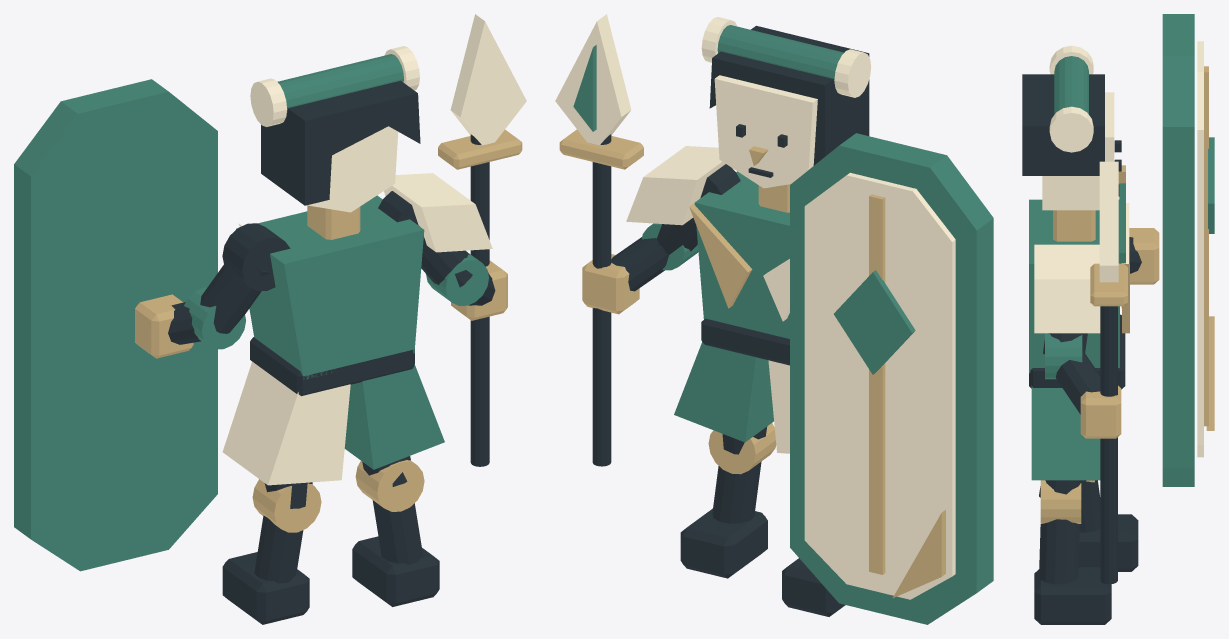
3 renders of one model, left to right at view 1: azimuth 30°, elevation 25°; view 2: azimuth 150°, elevation 25°; view 3: azimuth 270°, elevation 25°, orthographic. The views are drawn at different scales.
Parts seen in each view (by area): view 1: lamination_shield, laminated_jacket, panel_skirt_L, helmet_hair, panel_skirt_R, corner_lance_blade, right_shoulder_panel, corner_lance_shaft, clerk_face, L_shoe, R_shoe, belt (+18 smaller); view 2: shield_document, lamination_shield, laminated_jacket, clerk_face, panel_skirt_R, helmet_hair, corner_lance_shaft, shield_spine, right_shoulder_panel, corner_lance_blade, approval_diamond, R_shoe (+19 smaller); view 3: lamination_shield, helmet_hair, right_shoulder_panel, panel_skirt_R, corner_lance_shaft, R_shoe, laminated_jacket, shield_document, clerk_face, R_shin, corner_lance_blade, L_shoe (+20 smaller).
Boxes of the visible parts, box(x1,y1,x2,y2) form: lamination_shield: box(14, 79, 217, 571); laminated_jacket: box(236, 195, 424, 379); panel_skirt_L: box(222, 361, 350, 485); helmet_hair: box(261, 80, 420, 205); panel_skirt_R: box(344, 364, 444, 469); corner_lance_blade: box(450, 14, 526, 145); right_shoulder_panel: box(384, 173, 492, 252); corner_lance_shaft: box(470, 134, 489, 466); clerk_face: box(307, 126, 398, 212); L_shoe: box(222, 552, 309, 624); R_shoe: box(352, 536, 439, 606); belt: box(250, 337, 414, 396); shield_document: box(804, 172, 955, 599); lamination_shield: box(790, 133, 993, 624); laminated_jacket: box(694, 171, 789, 338); clerk_face: box(714, 75, 817, 188); panel_skirt_R: box(674, 342, 773, 442); helmet_hair: box(709, 25, 869, 165); corner_lance_shaft: box(592, 134, 611, 466); shield_spine: box(869, 194, 885, 574); right_shoulder_panel: box(626, 146, 732, 225); corner_lance_blade: box(555, 14, 631, 145); approval_diamond: box(834, 270, 915, 374); R_shoe: box(680, 508, 767, 578); lamination_shield: box(1162, 14, 1194, 486); helmet_hair: box(1022, 74, 1104, 175); right_shoulder_panel: box(1034, 244, 1100, 333); panel_skirt_R: box(1031, 385, 1100, 480); corner_lance_shaft: box(1100, 306, 1117, 584); R_shoe: box(1034, 567, 1111, 624); laminated_jacket: box(1029, 199, 1119, 373); shield_document: box(1197, 41, 1203, 457); clerk_face: box(1042, 92, 1114, 210); R_shin: box(1039, 519, 1079, 584); corner_lance_blade: box(1099, 161, 1118, 282); L_shoe: box(1078, 514, 1138, 571).
Size of the model in its own units: 1.88 by 2.1 by 0.72.
